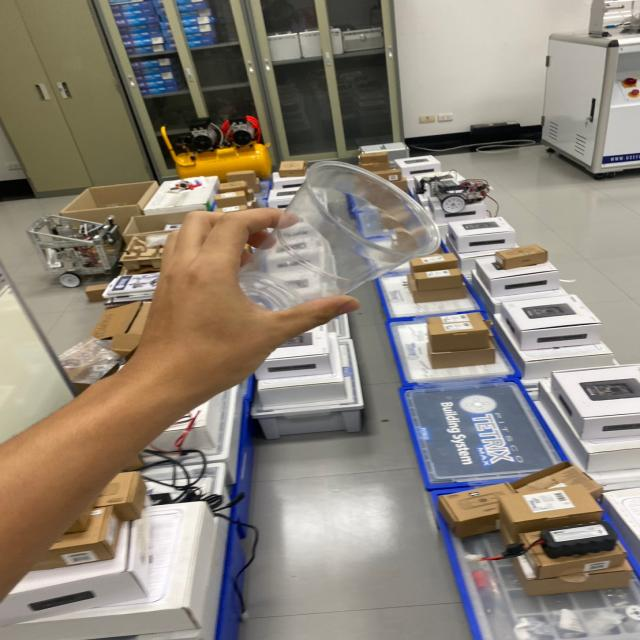glass: (234, 153, 450, 314)
